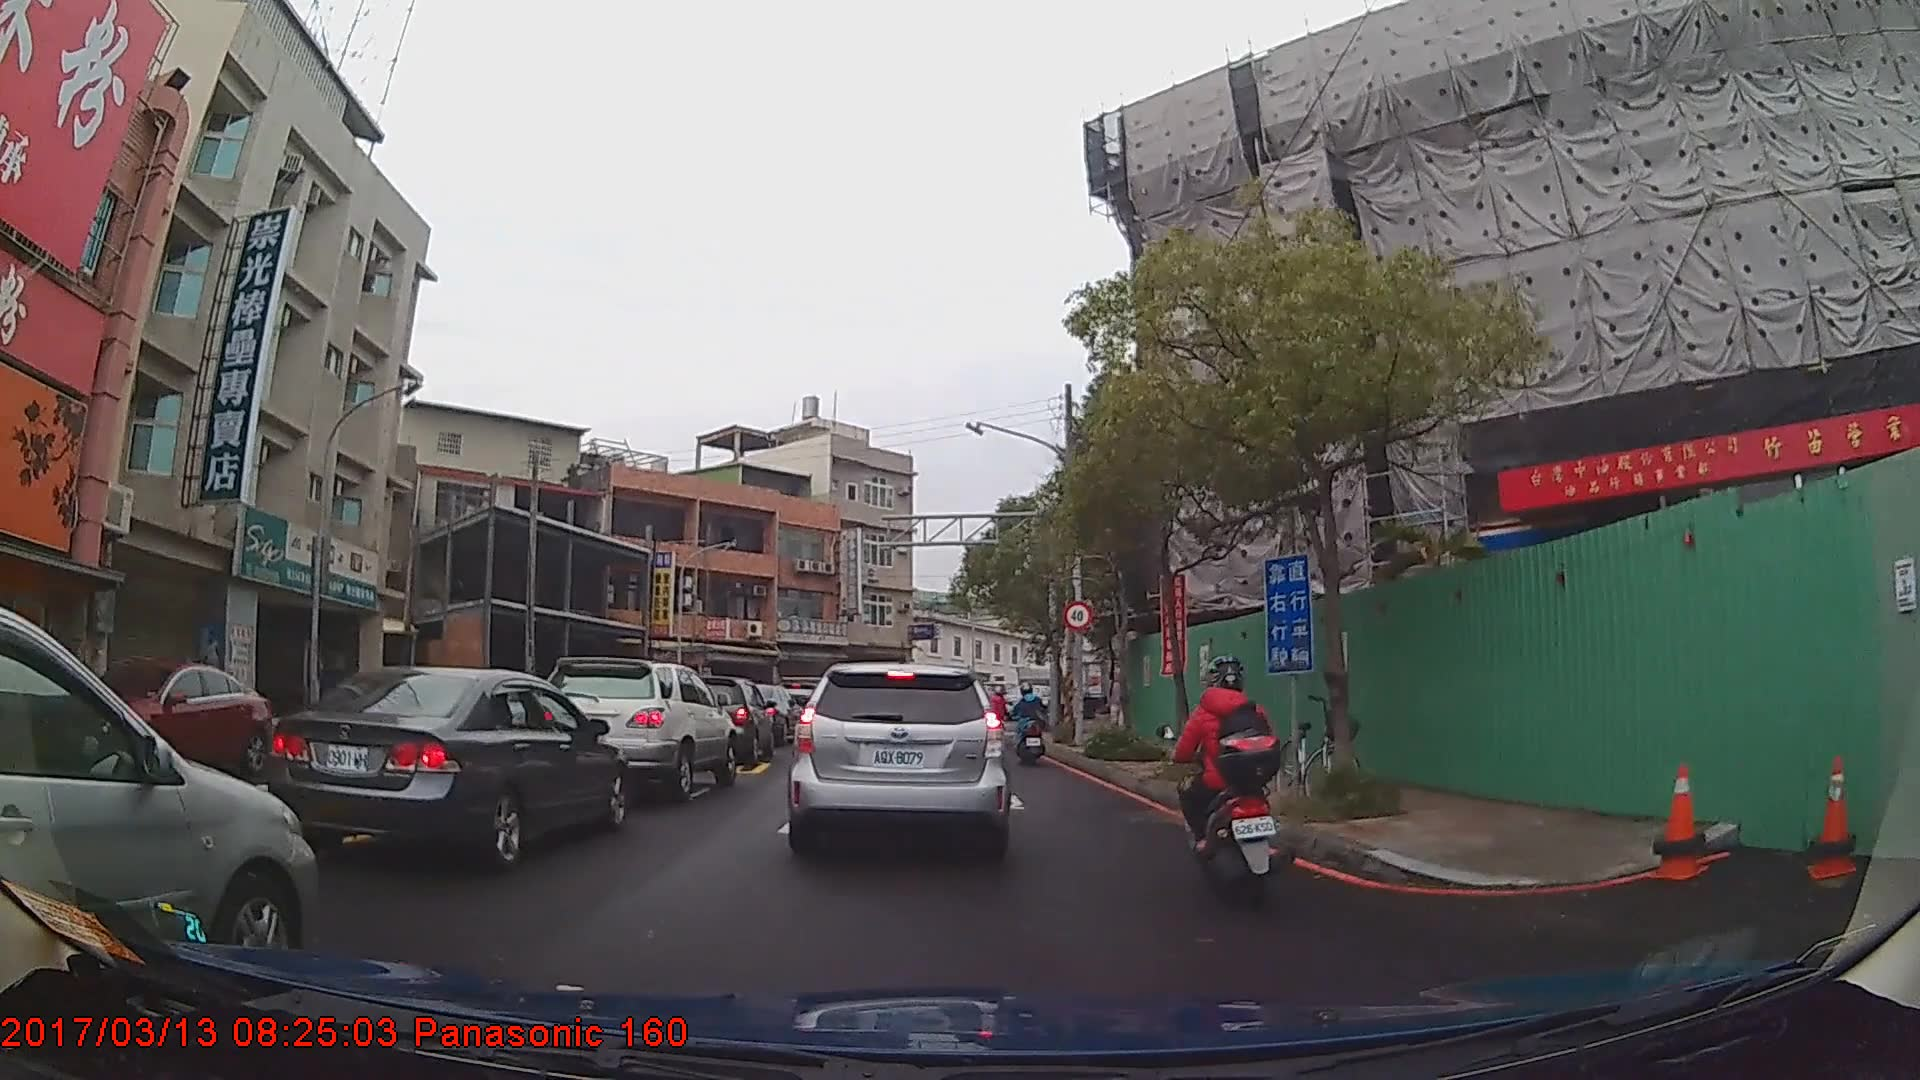pedestrian: (1103, 670, 1130, 743)
rider: (1167, 650, 1294, 898), (1011, 683, 1053, 771), (987, 687, 1011, 740)
vehicle: (0, 608, 318, 982), (263, 664, 623, 868), (783, 660, 1014, 856), (545, 655, 737, 802), (71, 659, 269, 776)
